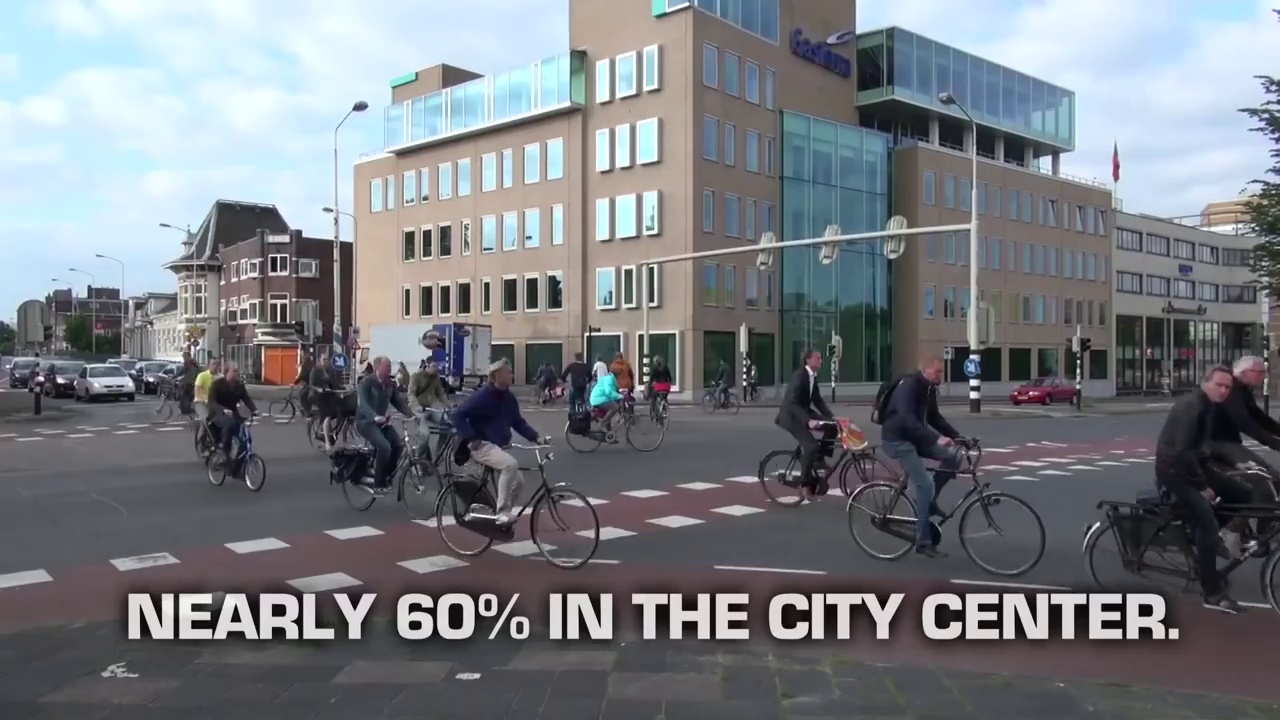cyclist_side: (1085, 369, 1273, 614), (851, 346, 1045, 570), (435, 353, 606, 562), (761, 341, 894, 506), (332, 353, 444, 516), (573, 359, 668, 450), (204, 363, 267, 495), (154, 348, 201, 424), (697, 356, 743, 412)
